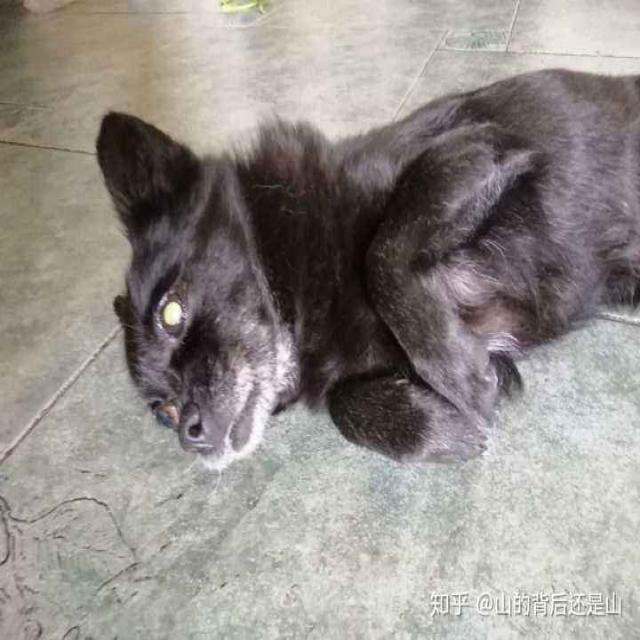eye: (159, 294, 188, 343), (155, 398, 182, 433)
